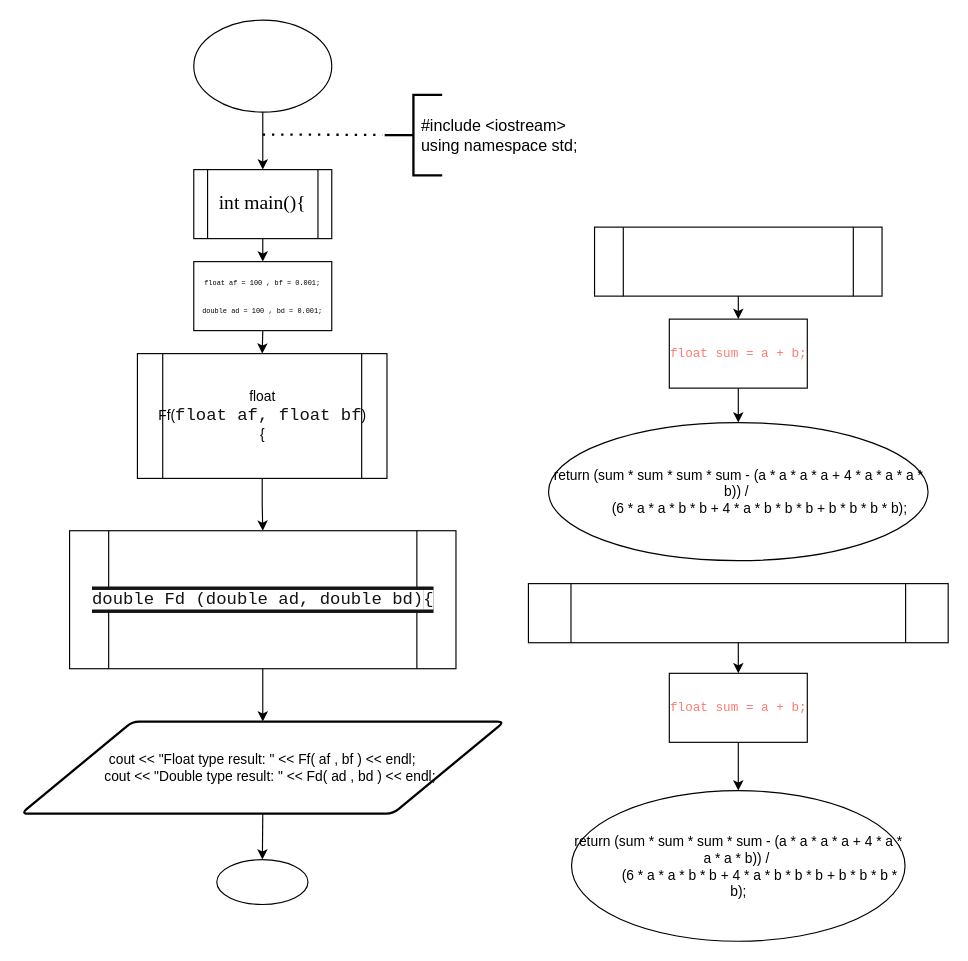
The diagram is 968 pixels wide and 961 high, and some of its shapes have lost their labels. Here are the shapes that lost their labels. From the top down, the centre of each, then its label:
At (262,65): "Начало".
At (737,261): "float Ff( float a , float b ){".
At (737,612): "double Fd (double a, double b) {".
At (262,881): "return 0;}".
